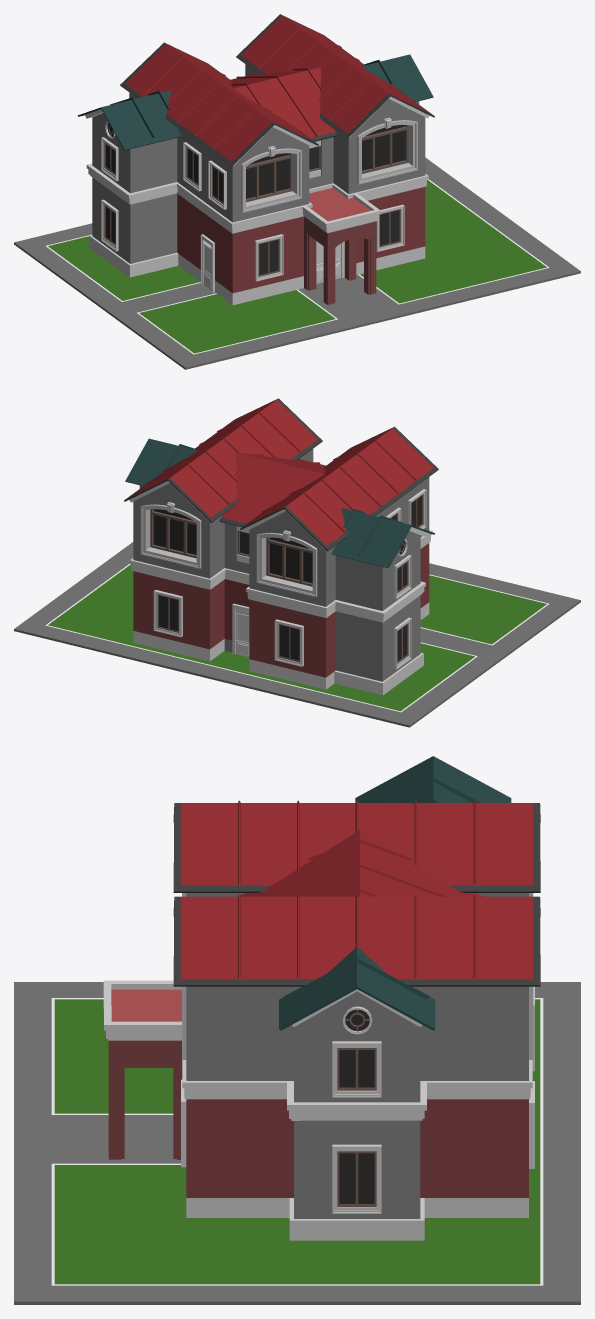
The picture shows the model from 3 angles, top to bottom: view 1: azimuth 30°, elevation 25°; view 2: azimuth 150°, elevation 25°; view 3: azimuth 270°, elevation 25°; orthographic projection. The views are drawn at different scales.
Visible parts, largest first — view 1: house_08.001; view 2: house_08.001; view 3: house_08.001.
Boxes of the visible parts, left/top/right/bottom form: house_08.001: left=14, top=14, right=580, bottom=369; house_08.001: left=14, top=398, right=580, bottom=727; house_08.001: left=14, top=756, right=580, bottom=1304.
Bounding box in the file's own units: 20 × 8.64 × 15.
Materials: 1 (1 with a texture image).
